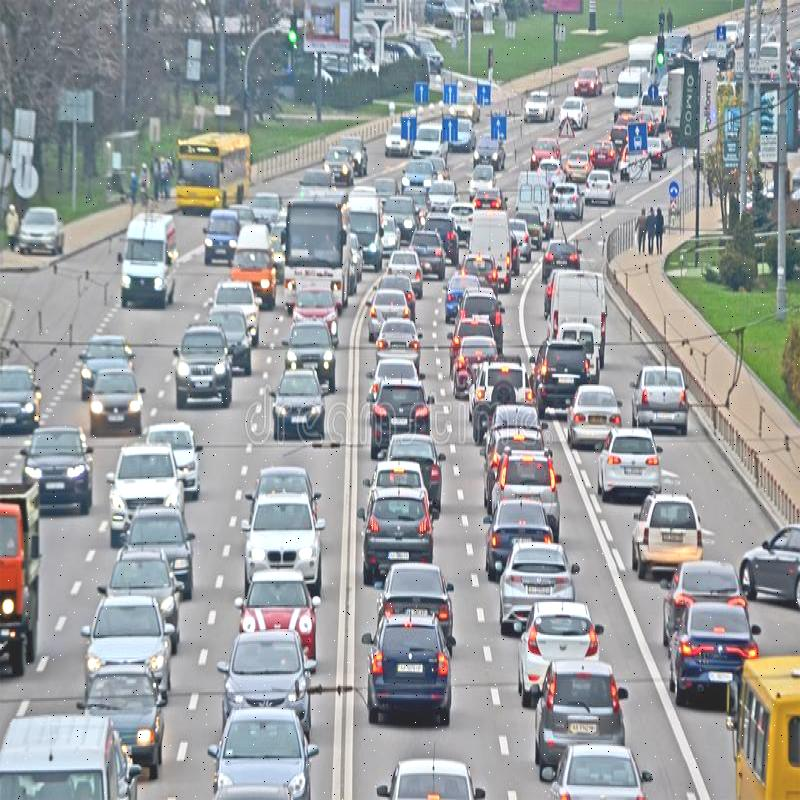car: (0, 707, 137, 800), (23, 417, 114, 539), (84, 656, 166, 774), (248, 467, 330, 582), (365, 612, 449, 722), (0, 474, 46, 665), (230, 632, 317, 732), (107, 547, 187, 653), (619, 499, 696, 602), (80, 591, 167, 682), (519, 596, 602, 691), (112, 436, 188, 539), (170, 314, 237, 428), (541, 654, 612, 754), (235, 572, 314, 660), (366, 484, 445, 570), (500, 544, 573, 635), (595, 419, 661, 515), (550, 731, 634, 800), (372, 360, 444, 436), (266, 369, 326, 459), (121, 506, 194, 579), (638, 346, 688, 450), (148, 407, 204, 498), (82, 359, 148, 434), (386, 559, 446, 639), (529, 334, 587, 407), (386, 312, 435, 387), (210, 266, 263, 330), (290, 278, 341, 344), (284, 319, 328, 391), (386, 434, 435, 490), (454, 332, 492, 386)
